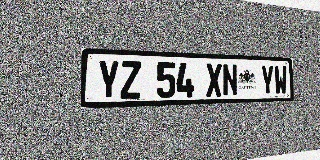4: (176, 62, 194, 98)
5: (157, 62, 176, 98)
N: (222, 64, 238, 96)
W: (274, 65, 287, 95)
X: (206, 63, 222, 97)
Y: (97, 60, 120, 100), (260, 65, 274, 95)
Z: (120, 61, 141, 99)
